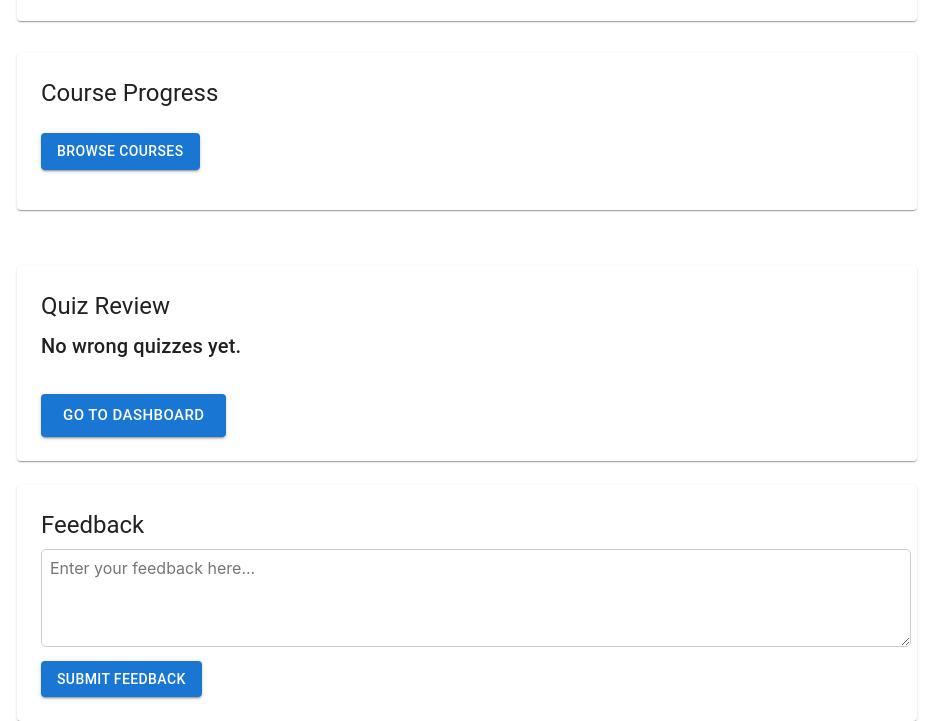
it: Progress Page › submit feedback successfully
(page scrolled)
In the text box with placeholder "Enter your feedback here...": [476, 598] box 41,549 -> 911,647, type "Great platform!"
(page scrolled)
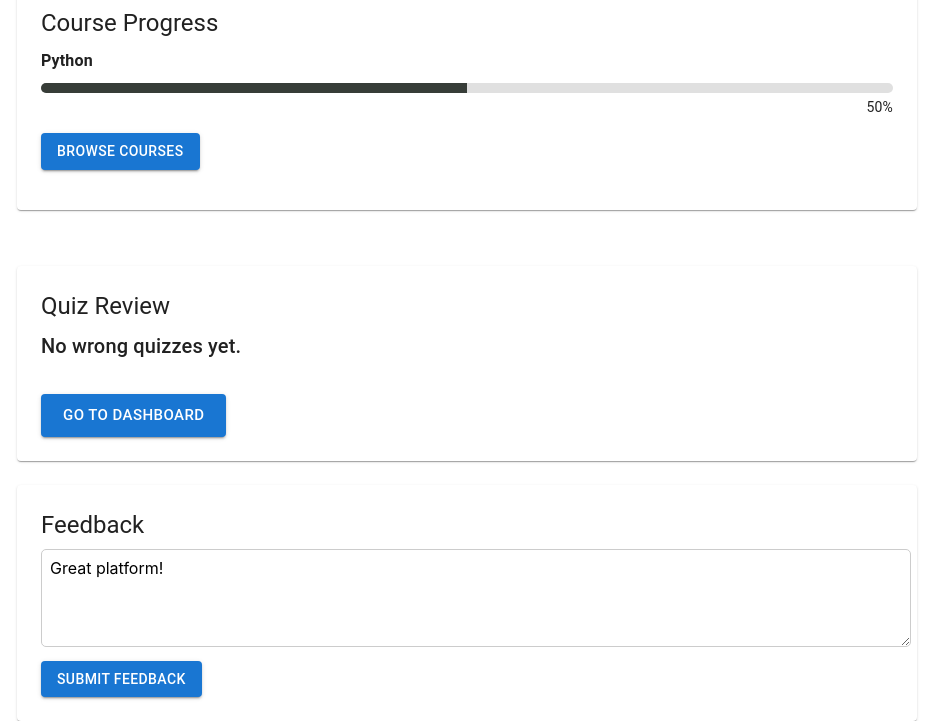
Click the button "Submit Feedback": [121, 679] box 41,661 -> 202,698
(page scrolled)
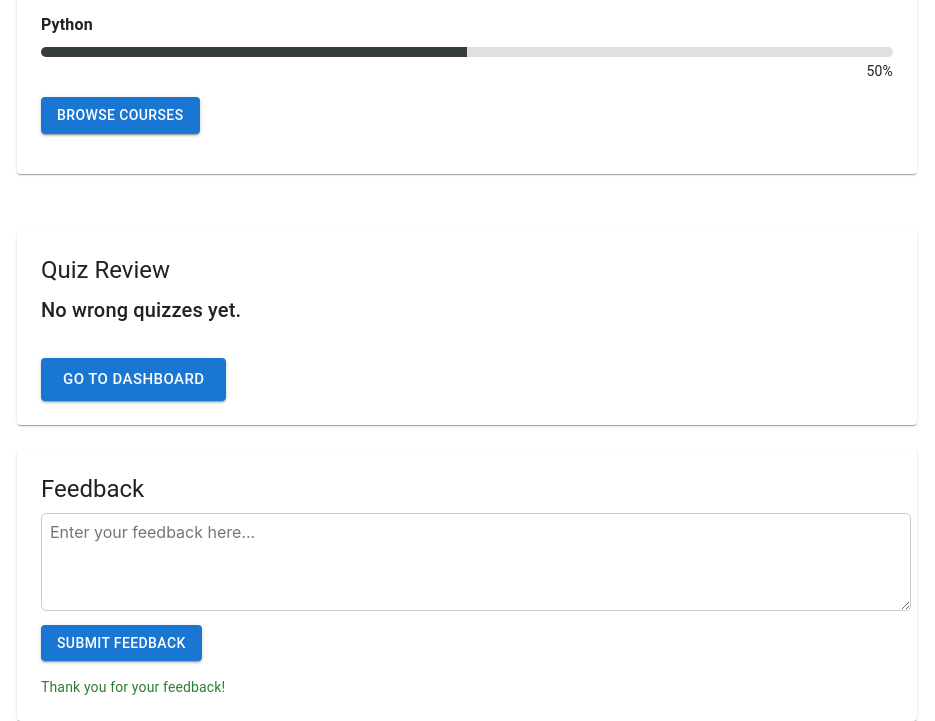
Expected: the text "Thank you for your feedback!" is shown, 41,680 -> 225,696
